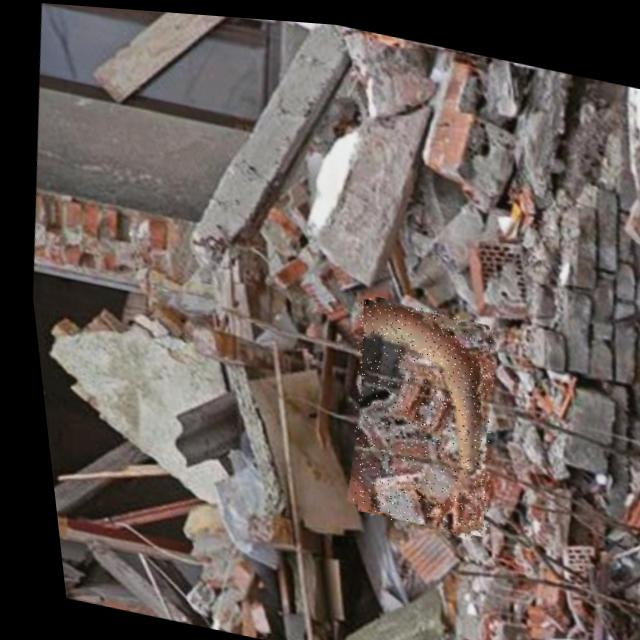Person in Rubble: (322, 287, 507, 535)
